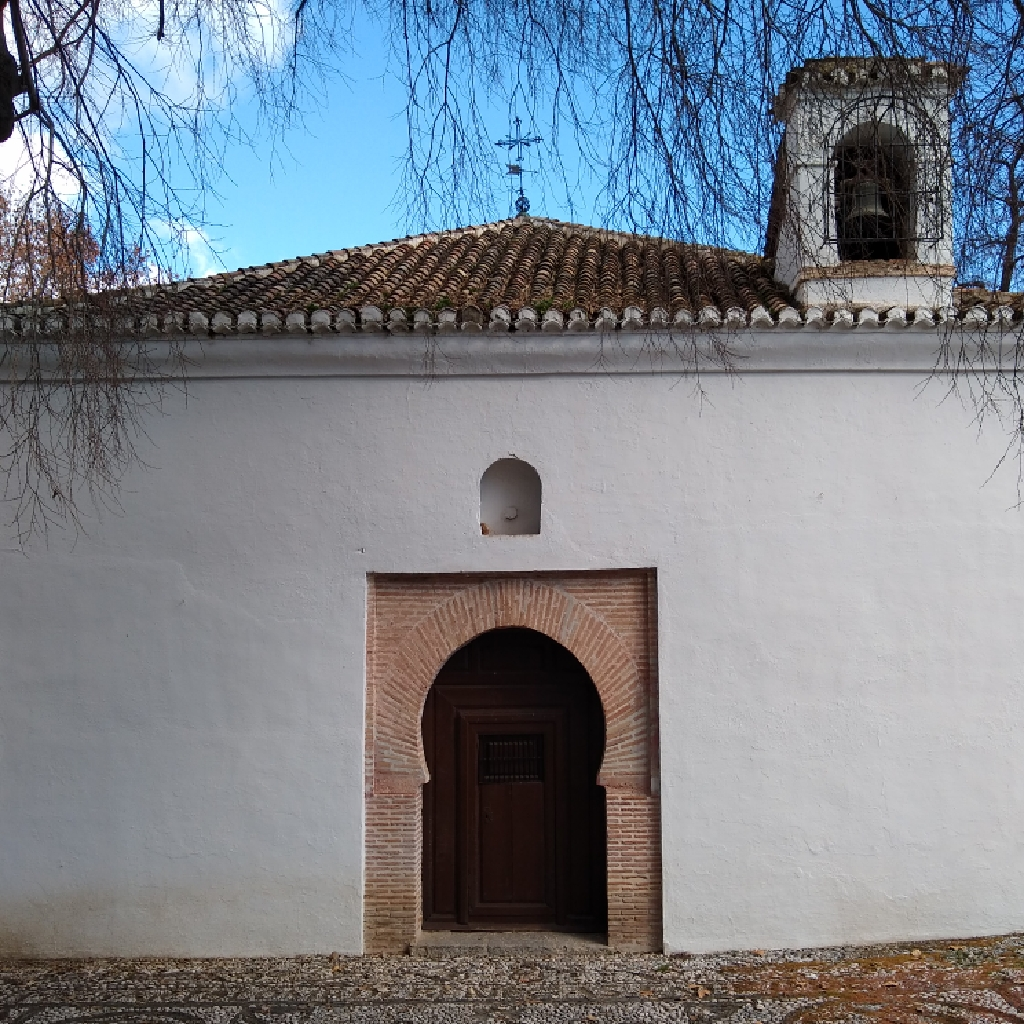arco-herradura: (400, 614, 621, 811)
